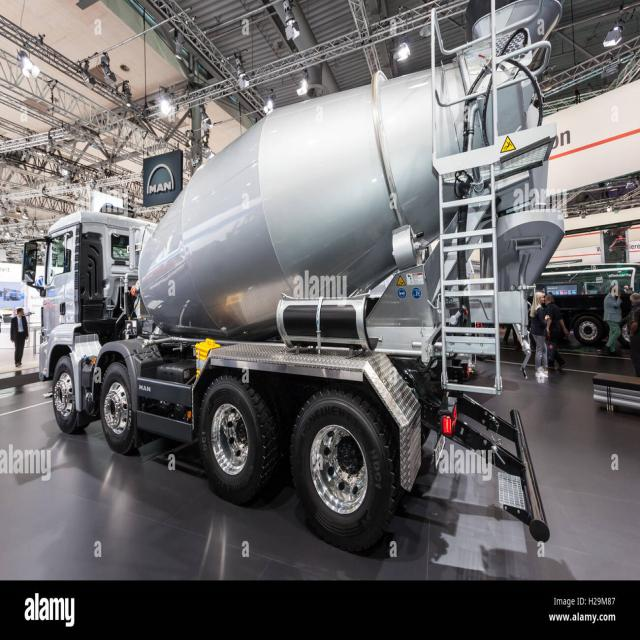Mixer Truck: (39, 0, 564, 555)
